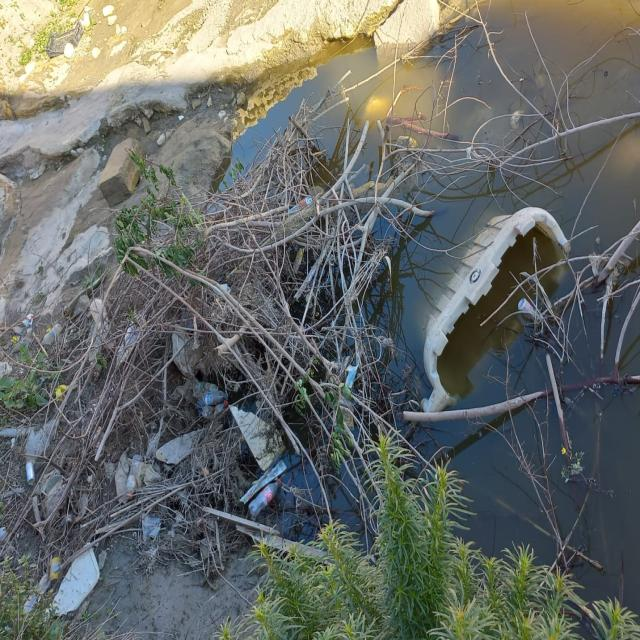Bottle: (117, 313, 147, 372), (247, 478, 281, 517), (125, 454, 143, 499), (90, 298, 109, 333), (288, 195, 312, 217), (40, 323, 62, 346), (73, 294, 92, 317), (203, 390, 229, 405)
Can: (517, 297, 542, 323), (50, 555, 62, 584), (26, 460, 36, 486)
Other litter: (167, 312, 229, 421), (46, 19, 84, 58), (140, 516, 162, 539), (340, 401, 354, 432), (346, 363, 360, 390), (54, 385, 69, 399), (22, 312, 34, 328)
Other plastic: (414, 209, 574, 419), (45, 544, 102, 621), (0, 421, 59, 464), (20, 573, 49, 614), (0, 526, 6, 542)
Plastic bag - wrapper: (239, 388, 275, 423), (225, 416, 253, 456)
Styrofoam piece: (228, 406, 286, 472)
